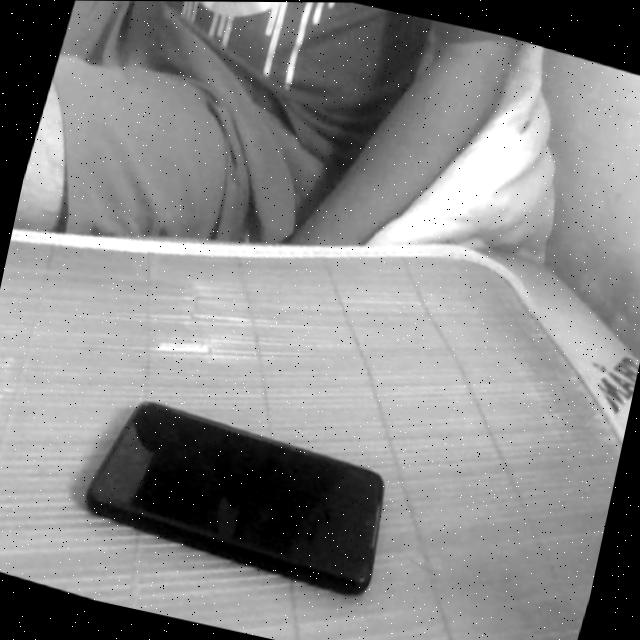phone: (54, 357, 427, 616)
